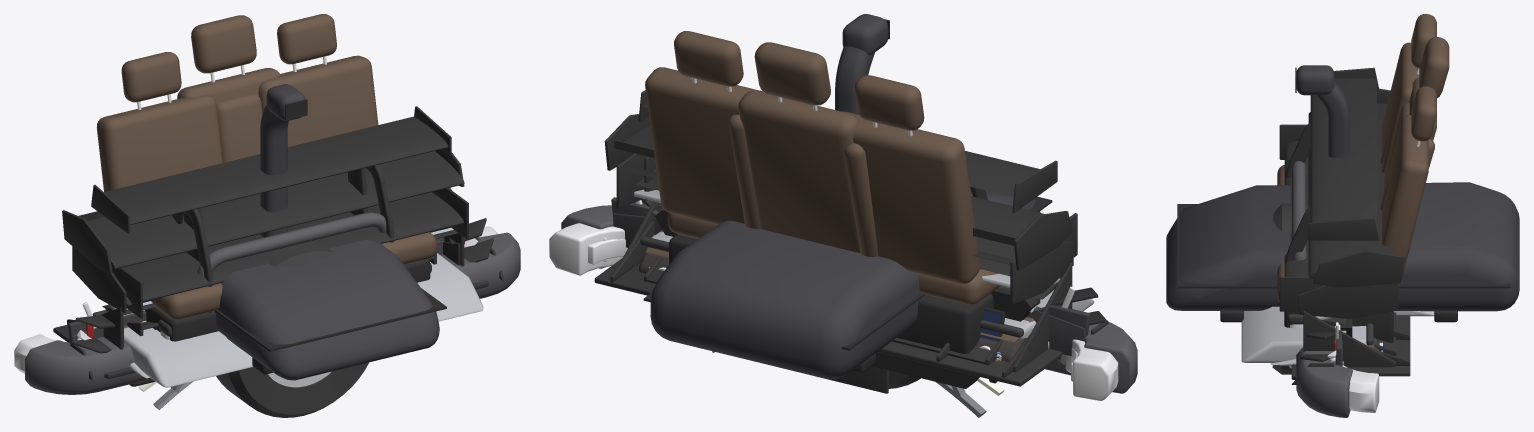
The model's file is car_parts.glb.
3 views of the same model, side by side, from view 1: azimuth 30°, elevation 25°; view 2: azimuth 150°, elevation 25°; view 3: azimuth 270°, elevation 25° (orthographic). The views are drawn at different scales.
Parts seen in each view (by area): view 1: part_roof_box_shell, part_seat_rear_back, part_spoiler_swan_wing, part_spoiler_tall_wing, part_spoiler_whale_tray, part_spoiler_wing_wing, part_bumper_offroad_front_bar, part_spare_wheel_tire, part_seat_rear_headrests, part_seat_front_headrest, part_bullbar_tubes, part_seat_rear_cushion (+15 smaller); view 2: part_roof_box_shell, part_seat_rear_back, part_seat_front_back, part_seat_rear_headrests, part_bumper_american_bar, part_seat_front_back_bolsters, part_seat_rear_base, part_seat_front_headrest, part_diffuser_race_plate, part_spoiler_biplane_endplates, part_spoiler_swan_endplates, part_bumper_offroad_front_bar (+23 smaller); view 3: part_roof_box_shell, part_spoiler_tall_wing, part_seat_rear_back, part_spoiler_whale_tray, part_spoiler_biplane_endplates, part_spoiler_swan_endplates, part_bumper_offroad_front_bar, part_spoiler_swan_wing, part_seat_rear_headrests, part_diffuser_blade_sides, part_spoiler_tall_endplates, part_snorkel_pipe (+13 smaller).
Part boxes in pixels (x1,y1,x2,y2): part_roof_box_shell: (215,240,439,380); part_seat_rear_back: (96,55,378,191); part_spoiler_swan_wing: (87,151,464,269); part_spoiler_tall_wing: (104,116,448,225); part_spoiler_whale_tray: (124,253,483,387); part_spoiler_wing_wing: (123,192,463,301); part_bumper_offroad_front_bar: (25,232,520,394); part_spare_wheel_tire: (216,241,368,417); part_seat_rear_headrests: (121,14,336,102); part_seat_front_headrest: (191,15,256,73); part_bullbar_tubes: (197,212,386,276); part_seat_rear_cushion: (151,232,436,319); part_roof_box_shell: (650,188,1040,379); part_seat_rear_back: (645,67,980,283); part_seat_front_back: (738,91,860,252); part_seat_rear_headrests: (674,31,924,130); part_bumper_american_bar: (549,223,1118,400); part_seat_front_back_bolsters: (728,114,878,256); part_seat_rear_base: (669,234,993,353); part_seat_front_headrest: (754,42,830,105); part_diffuser_race_plate: (594,258,1062,386); part_spoiler_biplane_endplates: (616,153,1073,304); part_spoiler_swan_endplates: (604,114,1072,270); part_bumper_offroad_front_bar: (561,205,1137,393); part_roof_box_shell: (1166,182,1519,311); part_spoiler_tall_wing: (1310,78,1376,226); part_seat_rear_back: (1382,42,1428,278); part_spoiler_whale_tray: (1241,306,1368,362); part_spoiler_biplane_endplates: (1298,283,1398,318); part_spoiler_swan_endplates: (1313,88,1405,287); part_bumper_offroad_front_bar: (1296,347,1352,417); part_spoiler_swan_wing: (1308,103,1392,278); part_seat_rear_headrests: (1411,14,1436,141); part_diffuser_blade_sides: (1303,311,1395,367); part_spoiler_tall_endplates: (1308,67,1379,240); part_snorkel_pipe: (1316,81,1349,157).
Bounding box in the file's own units: 2.27 × 1.48 × 1.49.
